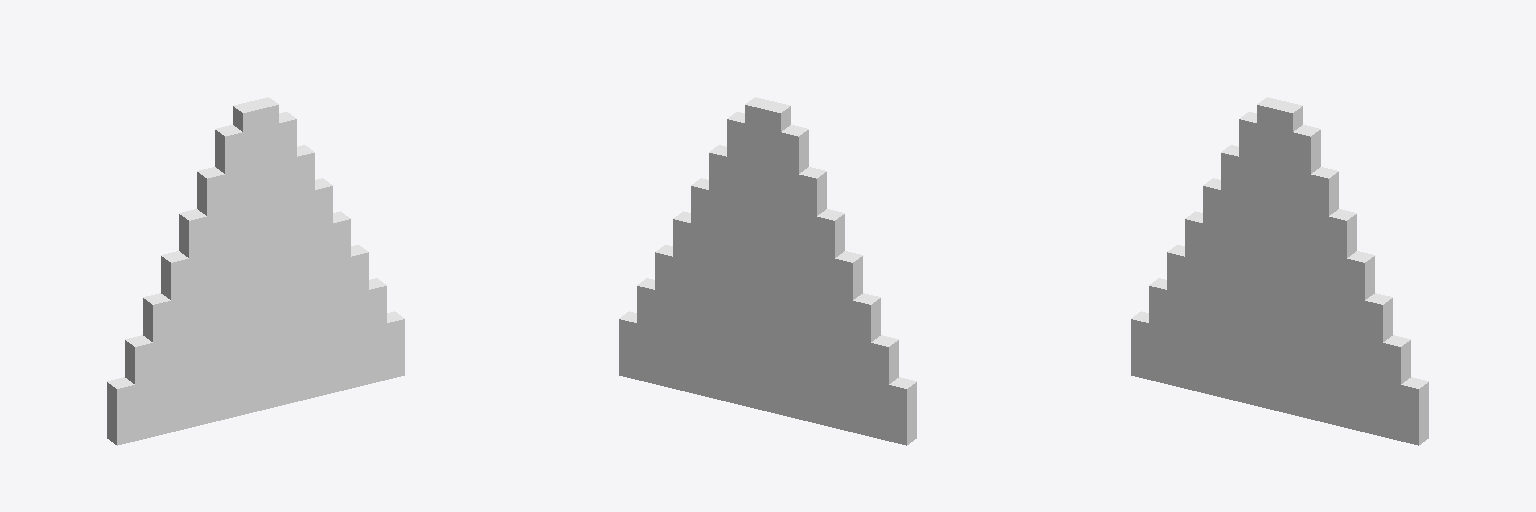
File: Electric.obj
3 renders of one model, left to right at view 1: azimuth 30°, elevation 25°; view 2: azimuth 150°, elevation 25°; view 3: azimuth 330°, elevation 25°, orthographic.
Visible parts, largest first — view 1: object 1; view 2: object 1; view 3: object 1.
Boxes of the visible parts, x1,y1,x2,y2 form: object 1: [107, 97, 404, 445]; object 1: [619, 97, 916, 445]; object 1: [1131, 97, 1428, 445].
Bounding box in the file's own units: 1.6 × 1.6 × 0.1.